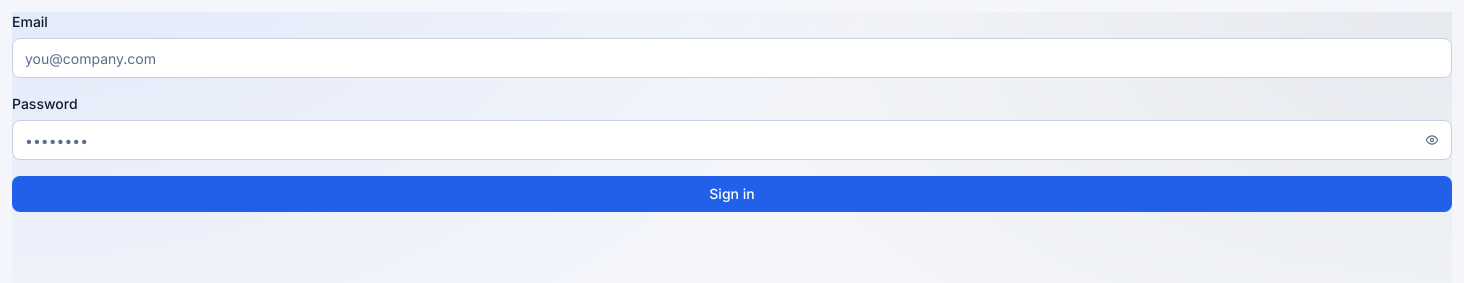
Test: LoginForm › explains when login succeeded but the session cookie was dropped
Type "owner@example.com" into the field labelled "Email". click: x=732, y=58
box: [12,38,1452,78]
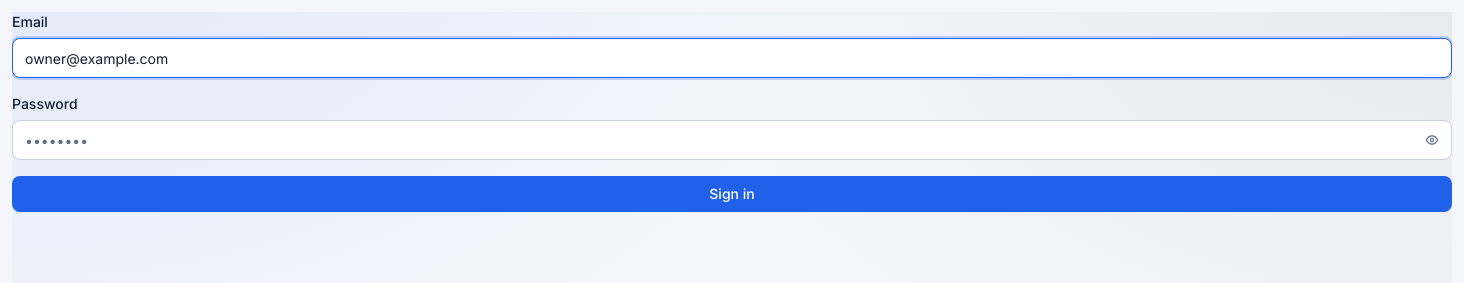
Type "password1" into the password field labelled "Password". click: x=732, y=140
box: [12,120,1452,160]
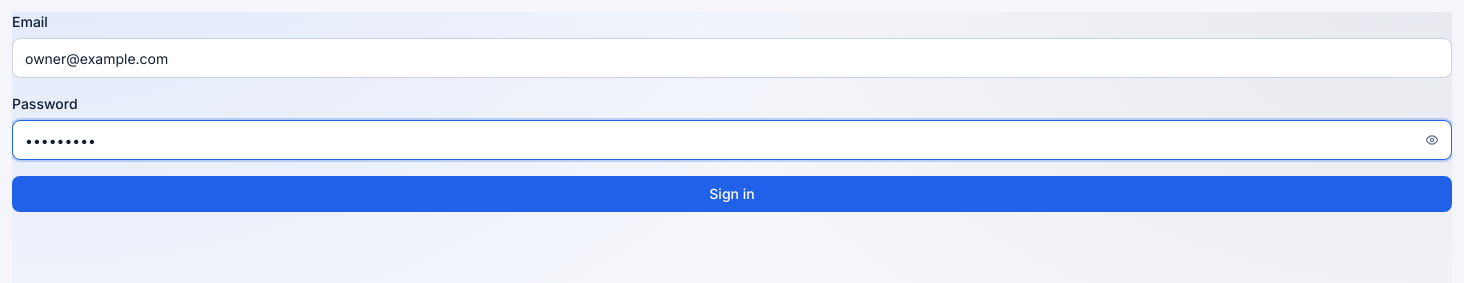
Click the button "Sign in". click: x=732, y=194
box: [12,176,1452,212]
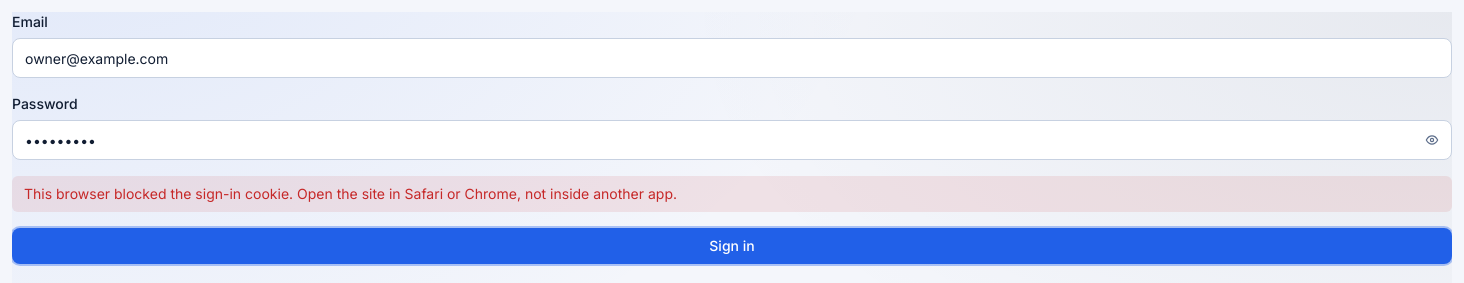
Check: the message shows "This browser blocked the sign-in cookie", box [24,185,677,202]
